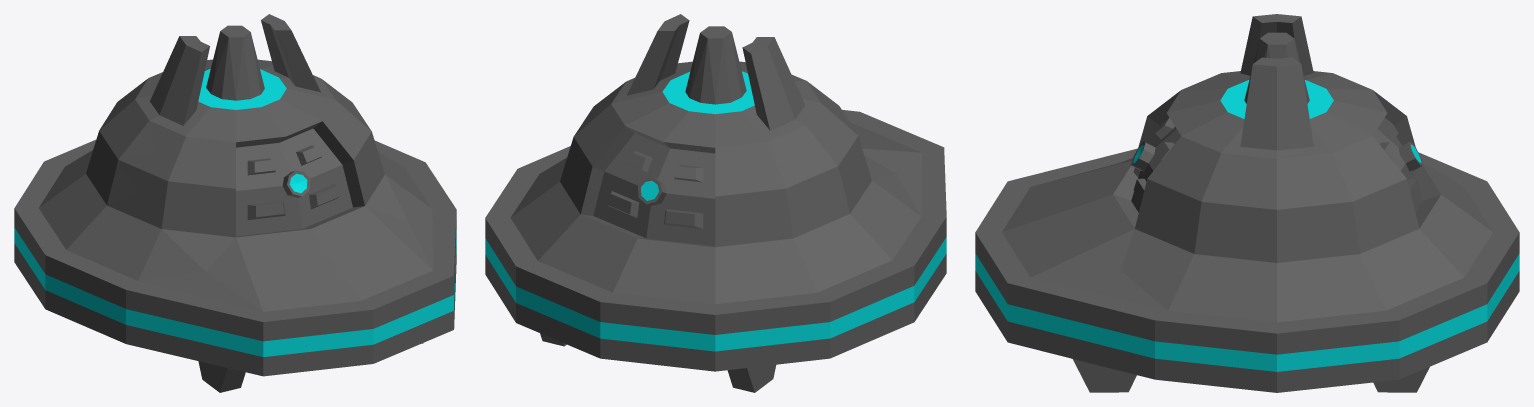
File: ground_enemies_1.fbx
3 views of the same model, side by side, from view 1: azimuth 30°, elevation 25°; view 2: azimuth 150°, elevation 25°; view 3: azimuth 270°, elevation 25° (orthographic). The views are drawn at different scales.
Visible parts, largest first — view 1: ground_enemies_1; view 2: ground_enemies_1; view 3: ground_enemies_1.
Part boxes in pixels (x1,y1,x2,y2): ground_enemies_1: [14, 14, 456, 392]; ground_enemies_1: [485, 14, 946, 392]; ground_enemies_1: [975, 14, 1519, 392].
Size of the model in its own units: 262 by 181 by 297.
